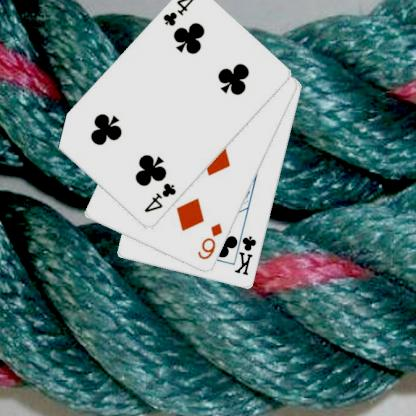4C: (141, 180, 178, 214), (160, 0, 197, 28)
6D: (195, 220, 224, 262)
KC: (230, 227, 258, 277)
